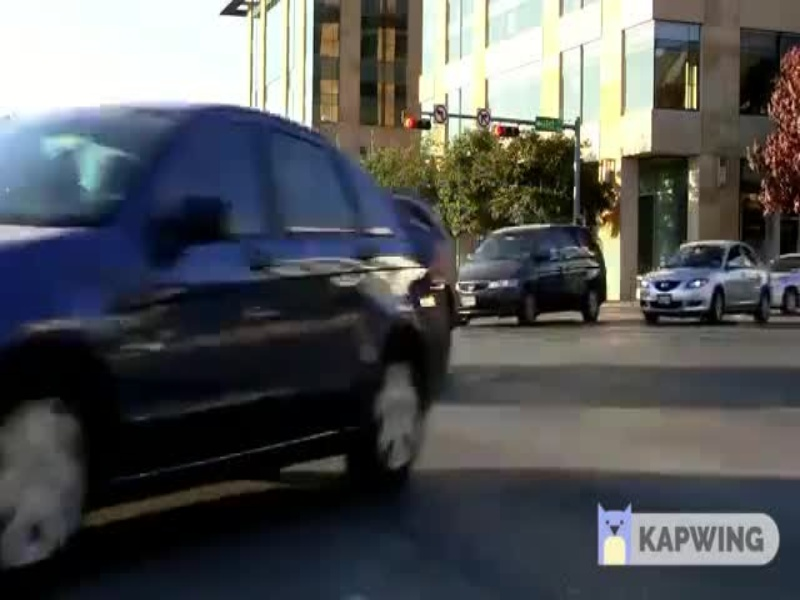car: (1, 92, 454, 529), (450, 222, 614, 333), (627, 239, 774, 330)
